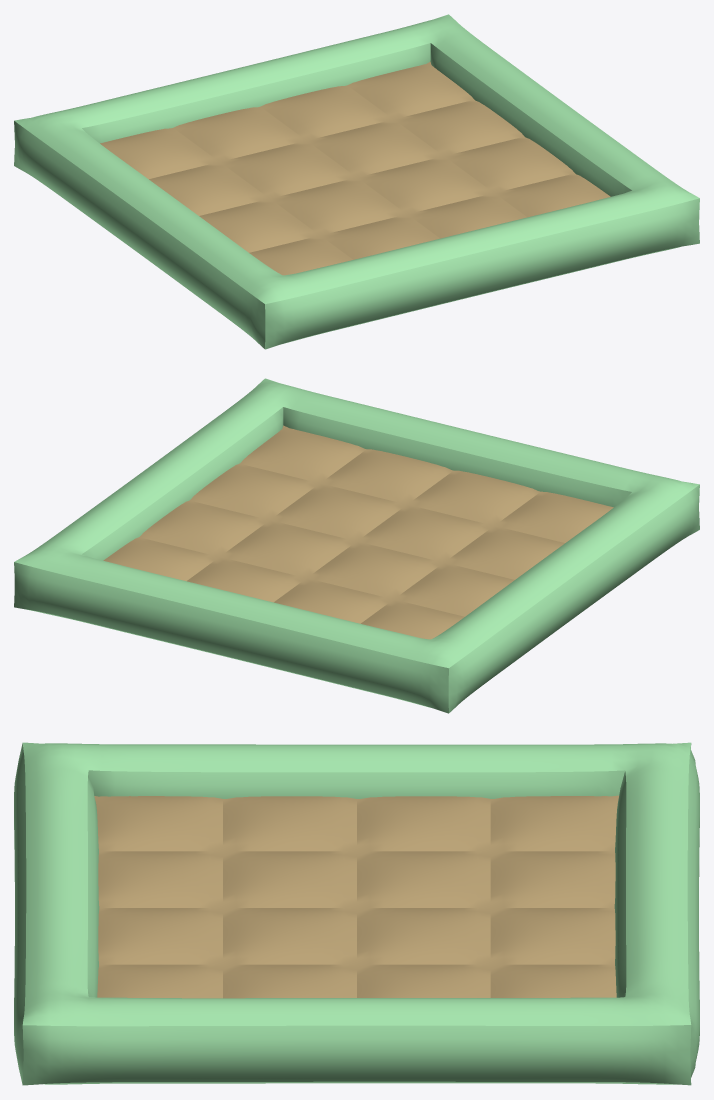
Rendered from Floor1.fbx.
The picture shows the model from 3 angles, top to bottom: view 1: azimuth 30°, elevation 25°; view 2: azimuth 150°, elevation 25°; view 3: azimuth 270°, elevation 25°; orthographic projection. The views are drawn at different scales.
Visible parts, largest first — view 1: Floor(1)(Bake); view 2: Floor(1)(Bake); view 3: Floor(1)(Bake).
Boxes of the visible parts, x1,y1,x2,y2 form: Floor(1)(Bake): (14, 14, 699, 349); Floor(1)(Bake): (14, 378, 699, 713); Floor(1)(Bake): (14, 742, 699, 1085).
Size of the model in its own units: 1025 by 130 by 1025.
